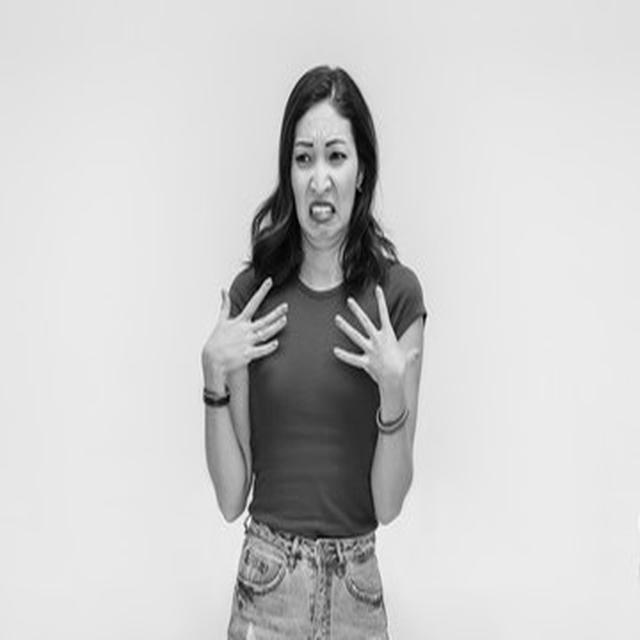Disgust: (292, 101, 360, 249)
